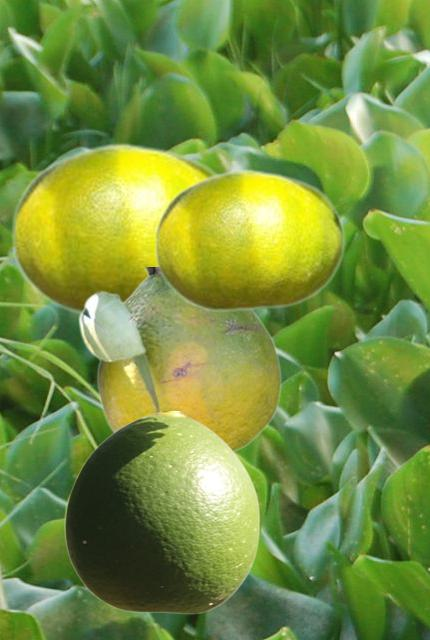dalandan: (64, 411, 259, 613), (77, 267, 281, 451), (10, 142, 217, 314), (153, 168, 344, 312)
